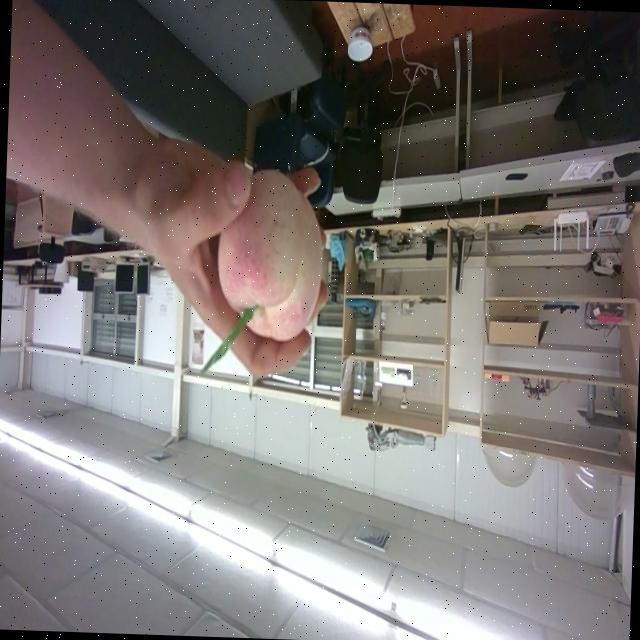peach: (218, 170, 321, 338)
